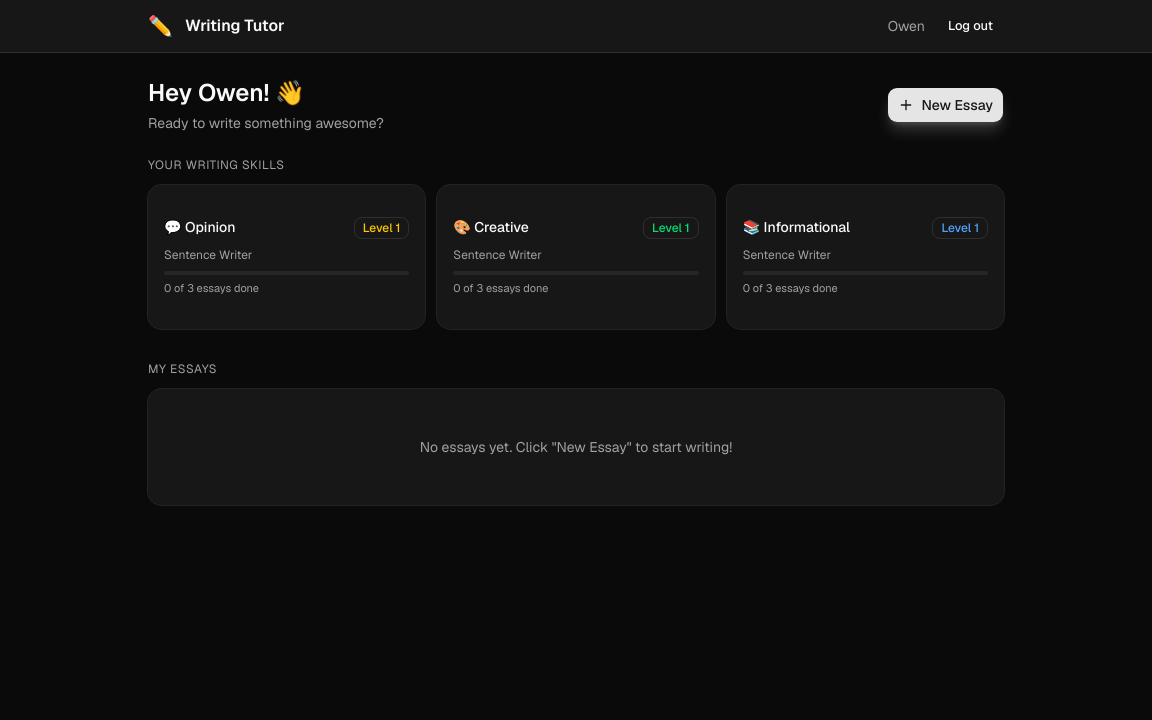
Test: HomePage › opening the level info dialog with no matching progress row falls back to level 1 / 0 essays
Note: Click the Level 1 badge on the opinion card (the first skill card).
Click the text "Level 1" next to "Opinion" at (382, 228), box [354, 217, 409, 239]
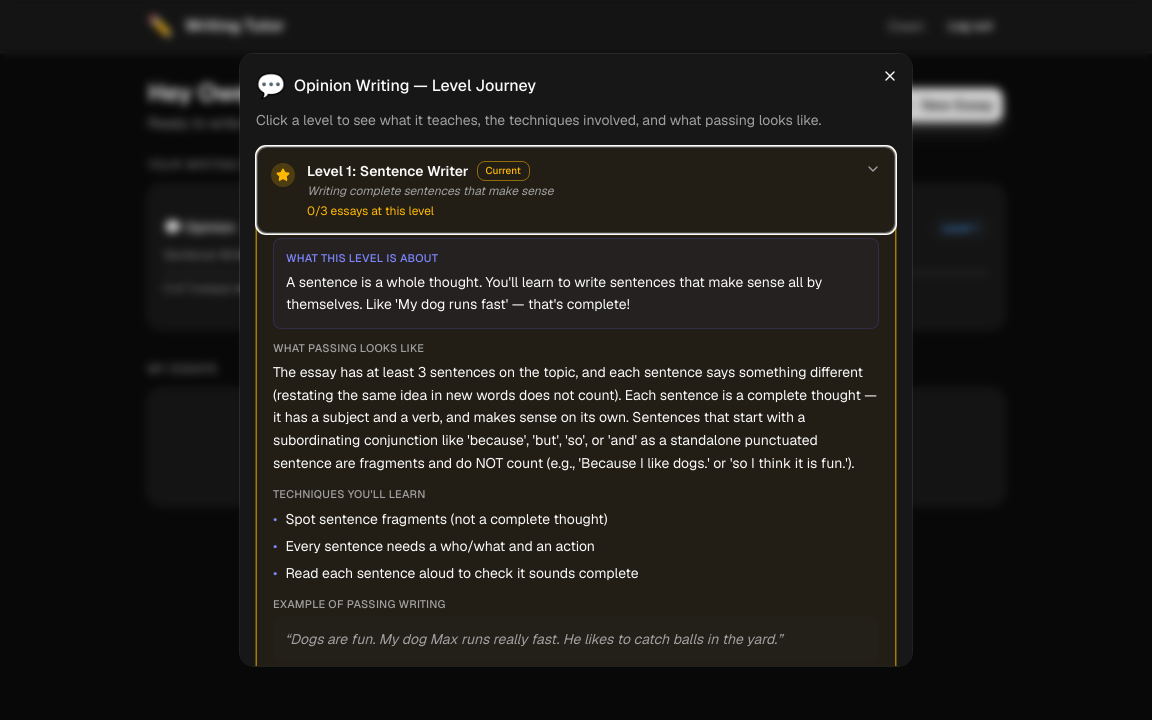
Check: the text "0/3 essays at this level" is shown, box [307, 203, 434, 219]
